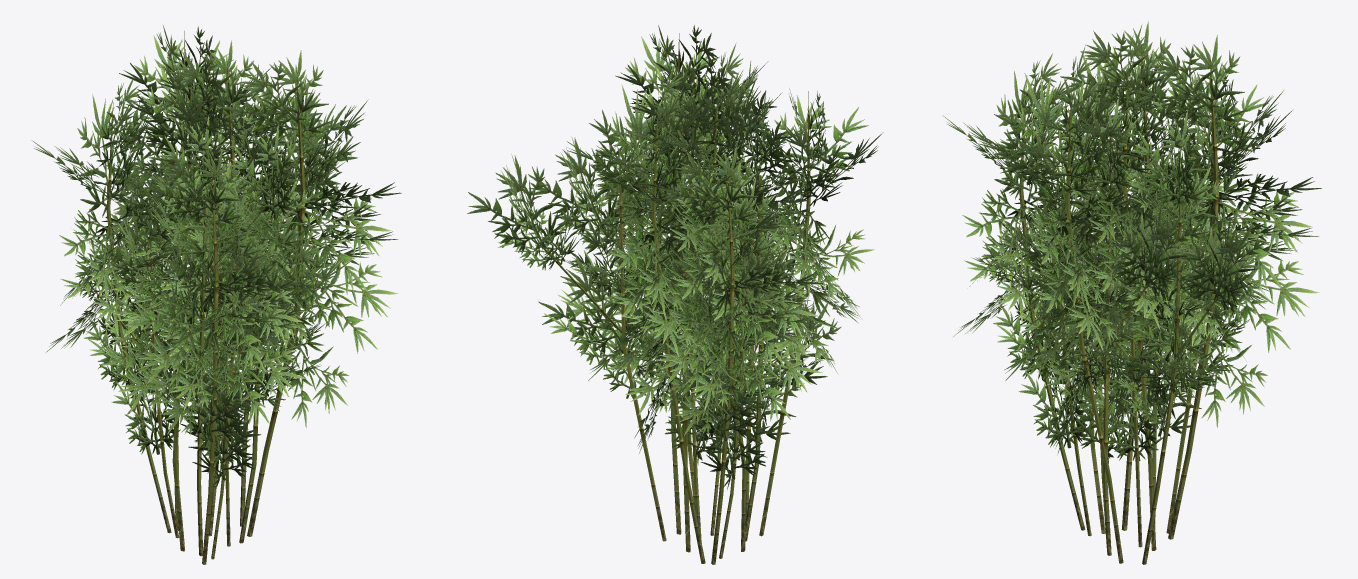
The model's file is tree_h.FBX.
3 renders of one model, left to right at view 1: azimuth 30°, elevation 25°; view 2: azimuth 150°, elevation 25°; view 3: azimuth 270°, elevation 25°, orthographic. The views are drawn at different scales.
Parts seen in each view (by area): view 1: tree_h; view 2: tree_h; view 3: tree_h.
Boxes of the visible parts, bbox=[...] form: tree_h: bbox=[31, 25, 401, 564]; tree_h: bbox=[467, 25, 883, 564]; tree_h: bbox=[942, 21, 1321, 564].
Size of the model in its own units: 6.82 by 9.63 by 6.96.
1 material, 1 textured.
